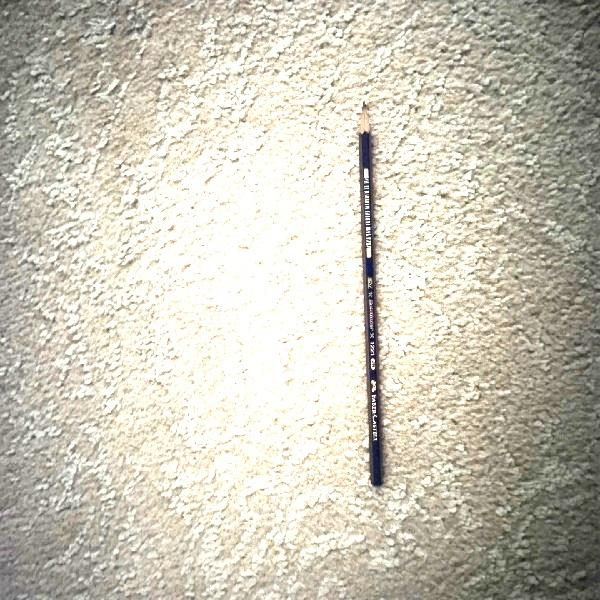pencil: (350, 102, 393, 491)
